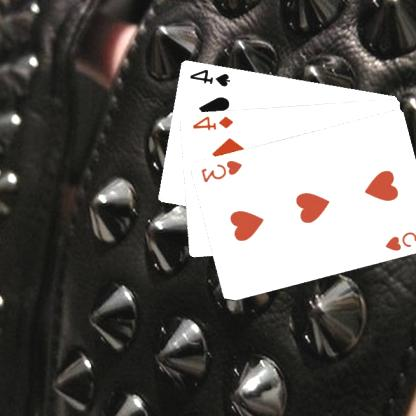3H: (200, 157, 245, 184), (384, 225, 416, 252)
4D: (191, 113, 236, 131)
4S: (188, 65, 233, 88)
